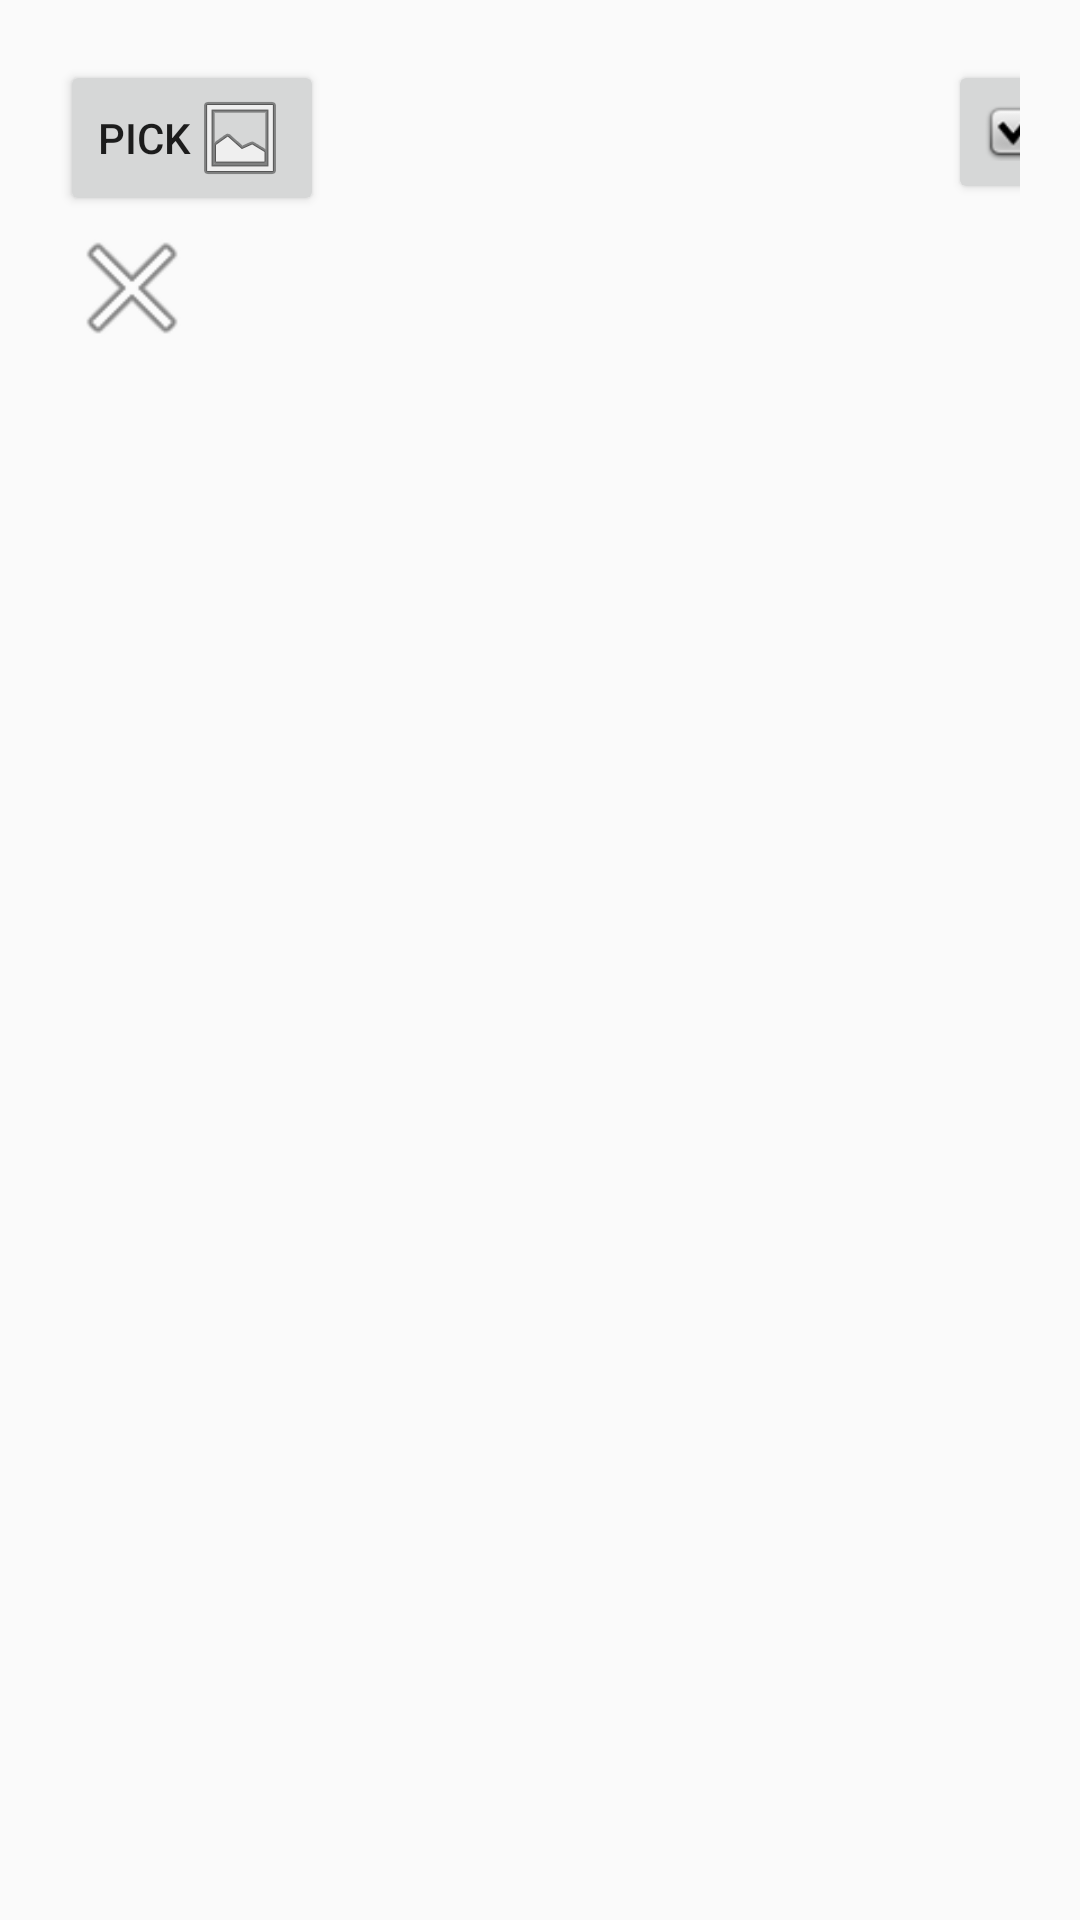

Screen size 1080px×1920px. Icon name, then its box in pixels as (left=x1, top=y1, right=x2, bottom=y2):
close clear cancel: (left=87, top=243, right=177, bottom=333)
